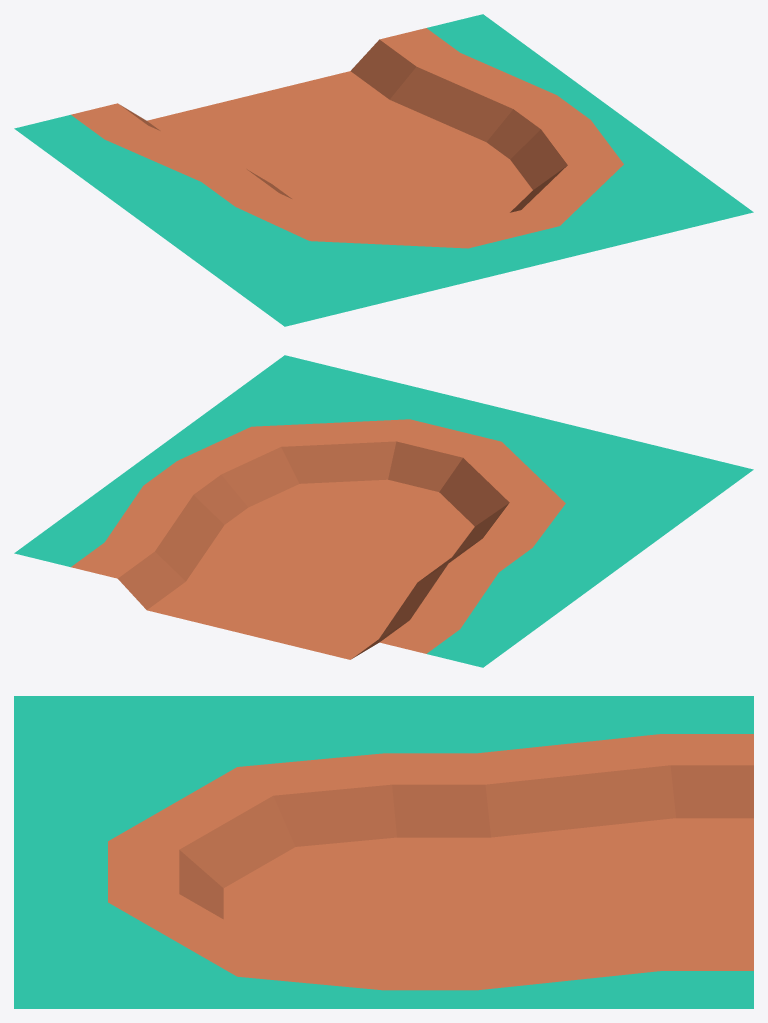
Rendered from ground_pathEndClosed.fbx.
3 renders of one model, top to bottom at view 1: azimuth 30°, elevation 25°; view 2: azimuth 150°, elevation 25°; view 3: azimuth 270°, elevation 25°, orthographic. The views are drawn at different scales.
Parts seen in each view (by area): view 1: ground_pathEndClosed; view 2: ground_pathEndClosed; view 3: ground_pathEndClosed.
Part boxes in pixels (bbox=[...]): ground_pathEndClosed: bbox=[14, 14, 753, 326]; ground_pathEndClosed: bbox=[14, 355, 753, 667]; ground_pathEndClosed: bbox=[14, 696, 753, 1008].
Size of the model in its own units: 10 by 0.5 by 10.
